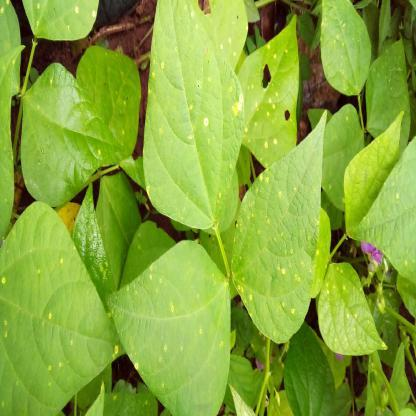Beans_Rust: (0, 200, 129, 416), (143, 0, 243, 231), (229, 109, 325, 345), (115, 240, 233, 414), (237, 13, 305, 162), (352, 138, 416, 290), (316, 264, 386, 356), (318, 0, 372, 96), (20, 1, 102, 43)
